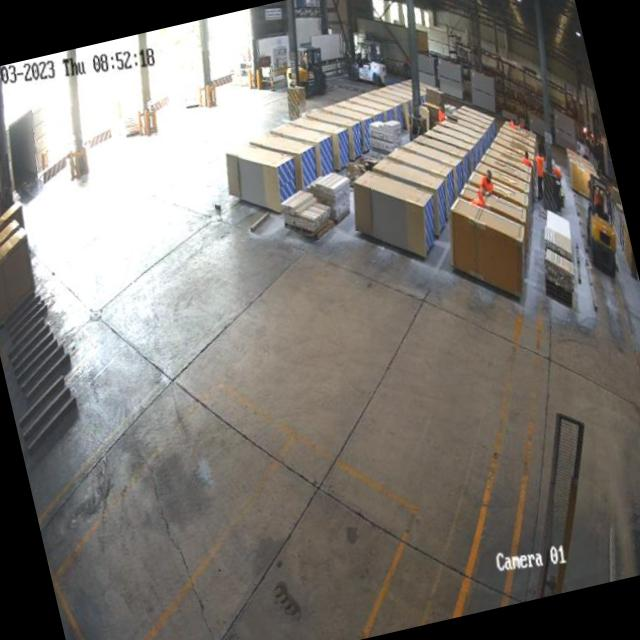driver: (592, 183, 606, 210)
forklift: (566, 164, 636, 289), (342, 32, 394, 92), (292, 39, 334, 100)
person: (525, 143, 556, 206), (476, 166, 498, 199)
